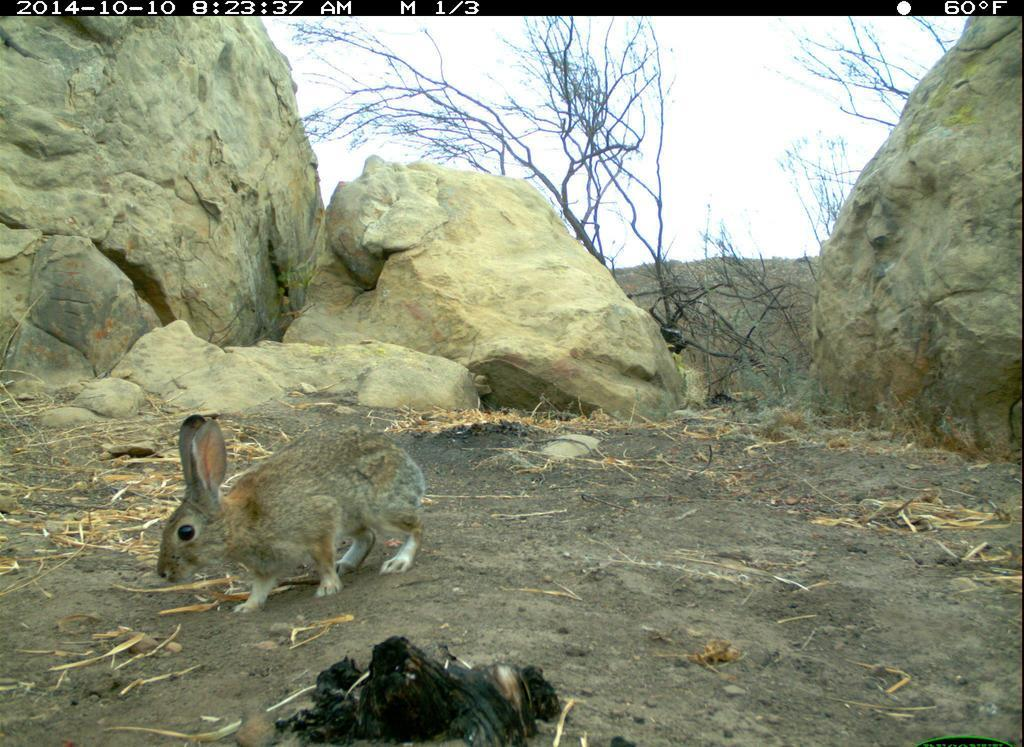rabbit: (127, 397, 450, 632)
